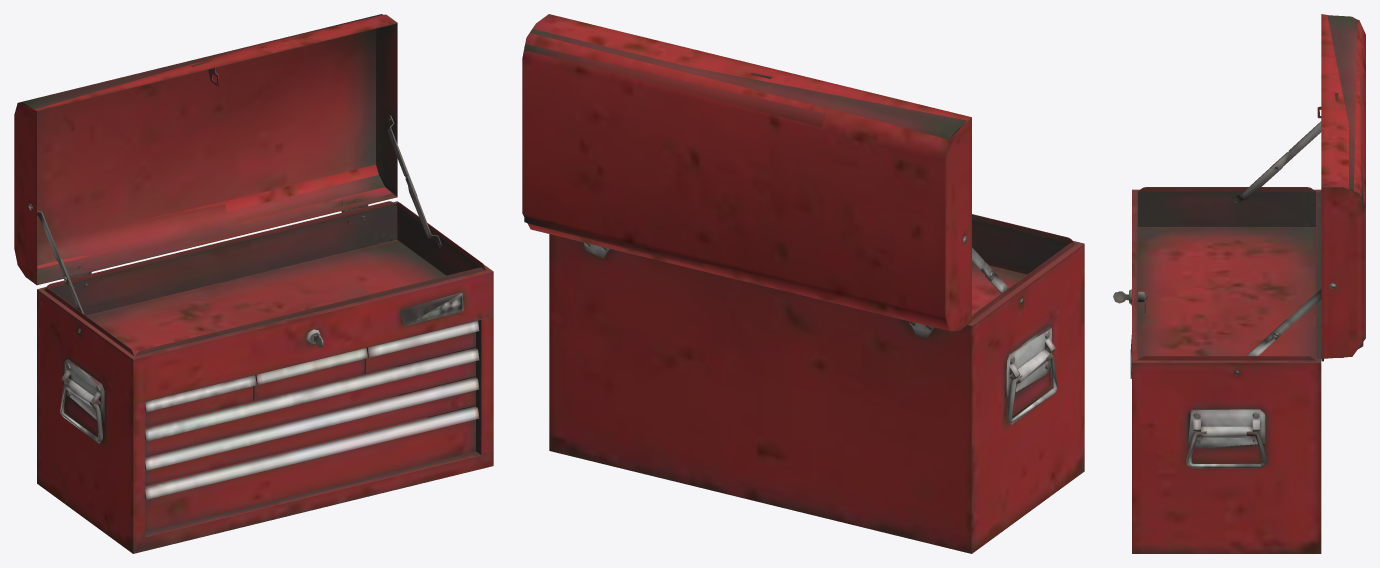
The model's file is toolChest_lo.glb.
The picture shows the model from 3 angles, left to right: view 1: azimuth 30°, elevation 25°; view 2: azimuth 150°, elevation 25°; view 3: azimuth 270°, elevation 25°; orthographic projection. The views are drawn at different scales.
Visible parts, largest first — view 1: metal_tool_chest_chest, metal_tool_chest_lid, metal_tool_chest_hinge_lid, metal_tool_chest_hinge_chest, metal_tool_chest_handle_left; view 2: metal_tool_chest_chest, metal_tool_chest_lid, metal_tool_chest_handle_left; view 3: metal_tool_chest_chest, metal_tool_chest_lid, metal_tool_chest_hinge_lid, metal_tool_chest_hinge_chest, metal_tool_chest_handle_right, metal_tool_chest_lock.
Part boxes in pixels (x1,y1,x2,y2): metal_tool_chest_chest: (37,201,493,553); metal_tool_chest_lid: (14,14,397,285); metal_tool_chest_hinge_lid: (28,115,417,284); metal_tool_chest_hinge_chest: (59,174,441,333); metal_tool_chest_handle_left: (60,382,102,443); metal_tool_chest_chest: (549,214,1084,553); metal_tool_chest_lid: (522,14,971,331); metal_tool_chest_handle_left: (1007,353,1057,424); metal_tool_chest_chest: (1130,187,1323,553); metal_tool_chest_lid: (1317,14,1365,358); metal_tool_chest_hinge_lid: (1270,121,1336,339); metal_tool_chest_hinge_chest: (1233,152,1288,376); metal_tool_chest_handle_right: (1186,431,1267,468); metal_tool_chest_lock: (1113,289,1147,313).
Bounding box in the file's own units: 0.6841 × 0.6519 × 0.4072.
Materials: 1 (1 with a texture image).
